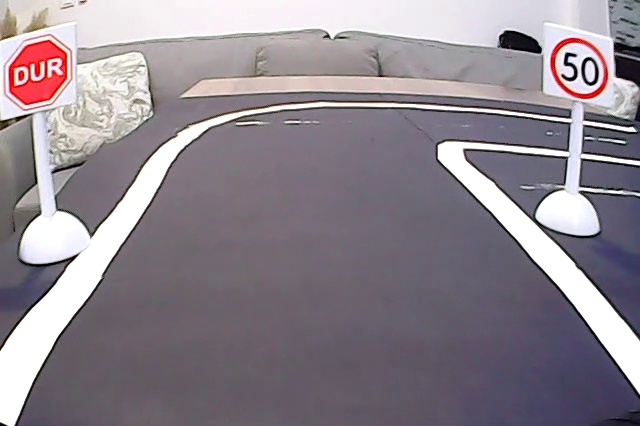speed limit 50: (546, 29, 609, 102)
stop sign: (5, 38, 80, 111)
